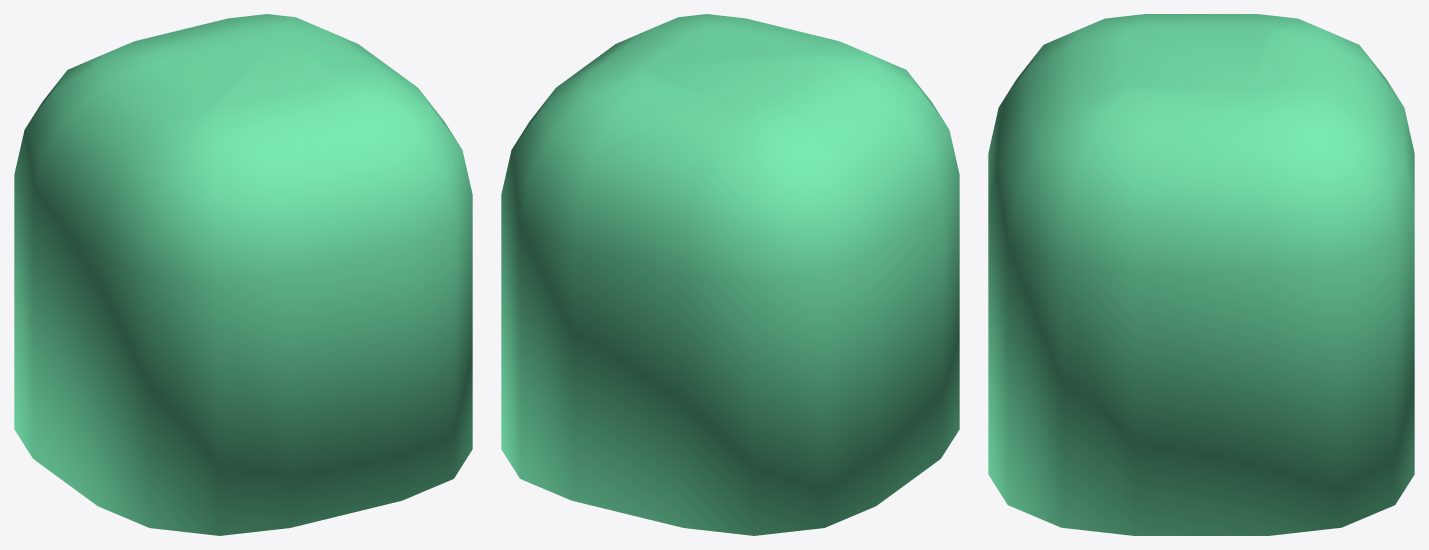
Rendered from Stone.fbx.
3 renders of one model, left to right at view 1: azimuth 30°, elevation 25°; view 2: azimuth 150°, elevation 25°; view 3: azimuth 270°, elevation 25°, orthographic. The views are drawn at different scales.
Parts seen in each view (by area): view 1: Cube; view 2: Cube; view 3: Cube.
Part boxes in pixels (x1,y1,x2,y2): Cube: (14, 14, 472, 535); Cube: (501, 14, 959, 535); Cube: (988, 14, 1414, 535).
Size of the model in its own units: 200 by 200 by 200.
